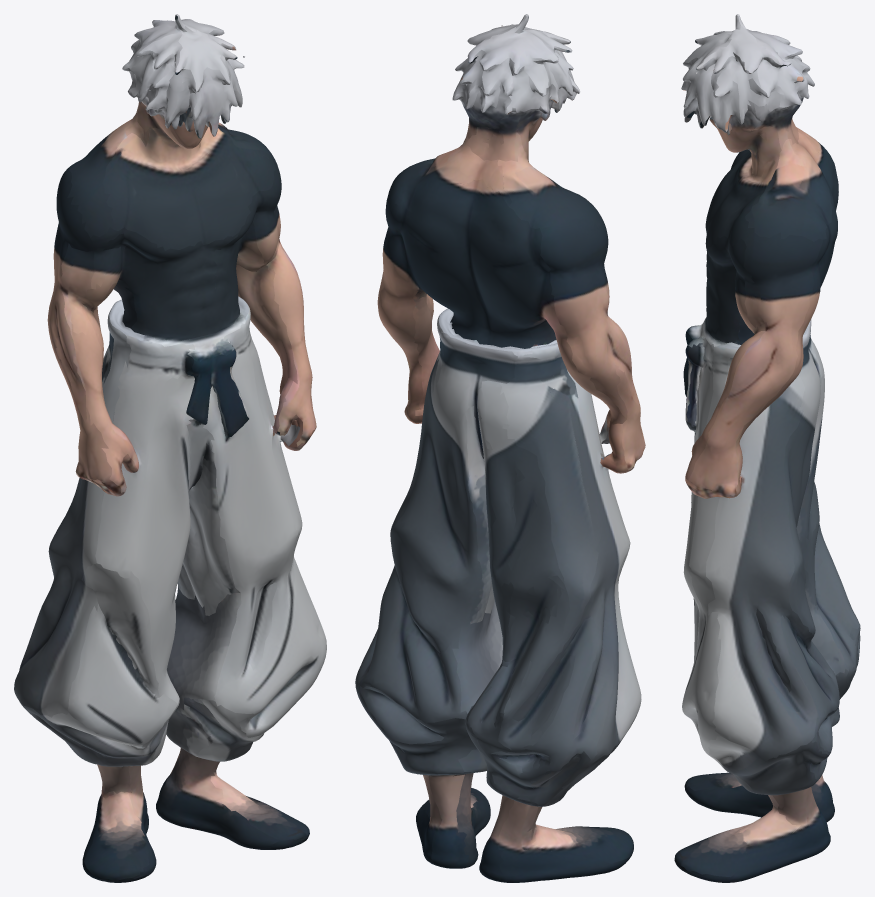
The model's file is gojo.glb.
The picture shows the model from 3 angles, left to right: view 1: azimuth 30°, elevation 25°; view 2: azimuth 150°, elevation 25°; view 3: azimuth 270°, elevation 25°; orthographic projection. The views are drawn at different scales.
Visible parts, largest first — view 1: tmpkax5qnf1.ply; view 2: tmpkax5qnf1.ply; view 3: tmpkax5qnf1.ply.
Part boxes in pixels (x1=…): tmpkax5qnf1.ply: x1=14, y1=14, x2=326, y2=882; tmpkax5qnf1.ply: x1=355, y1=14, x2=645, y2=882; tmpkax5qnf1.ply: x1=674, y1=14, x2=860, y2=882.
Bounding box in the file's own units: 0.7291 × 2.22 × 0.4584.
1 material, 1 textured.
